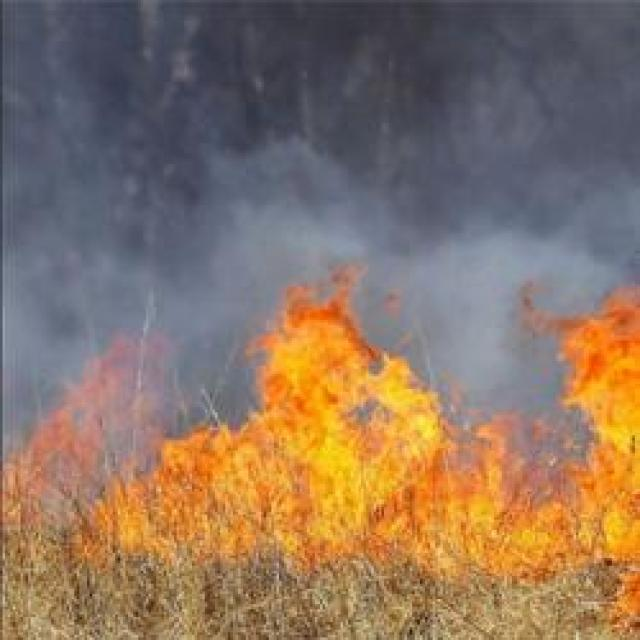Fire: (77, 428, 559, 576), (245, 290, 443, 428), (564, 290, 640, 624)
Smoke: (7, 194, 640, 278), (8, 283, 240, 418)
